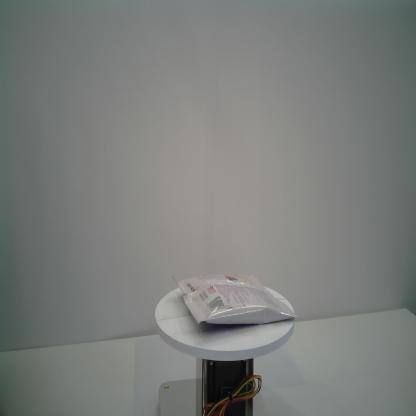Instant Drink: (172, 273, 298, 325)
